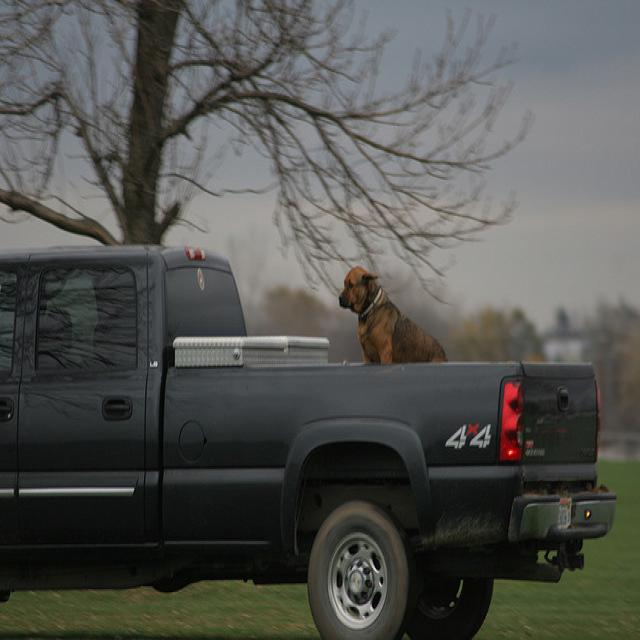Vehicle: (4, 247, 616, 634)
